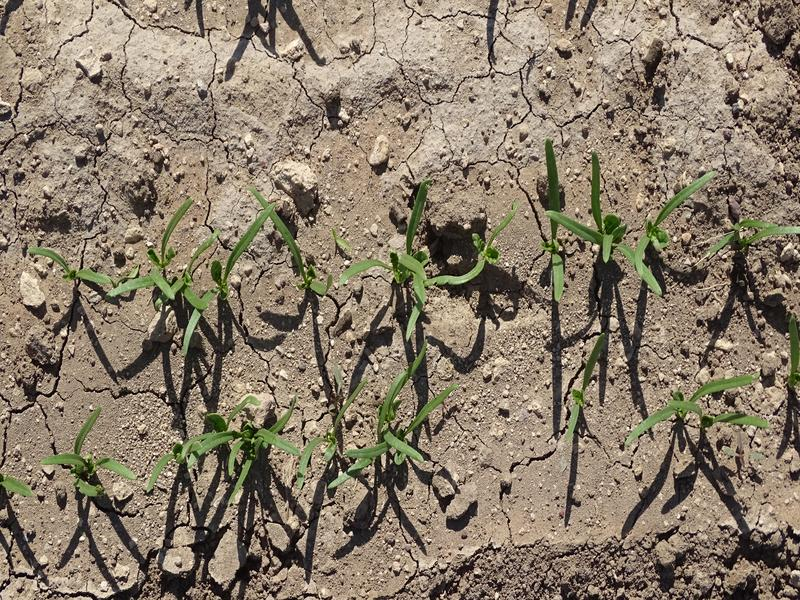Espinaca: (29, 185, 319, 354), (534, 141, 709, 299), (350, 206, 522, 332), (301, 375, 433, 477), (150, 396, 289, 491), (626, 372, 776, 441), (47, 409, 124, 507), (560, 335, 608, 436), (720, 213, 798, 255)
